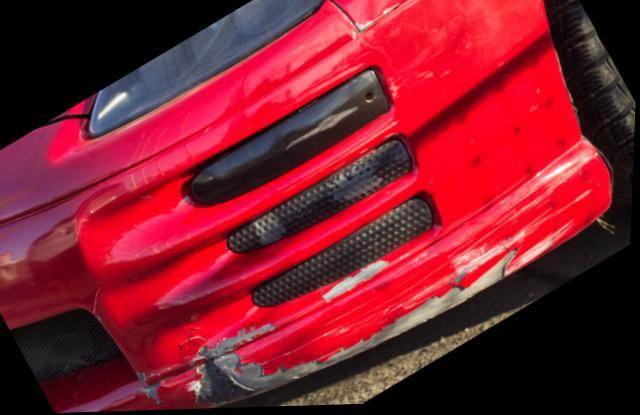rub: (144, 158, 596, 410)
scratch: (286, 107, 364, 149)
